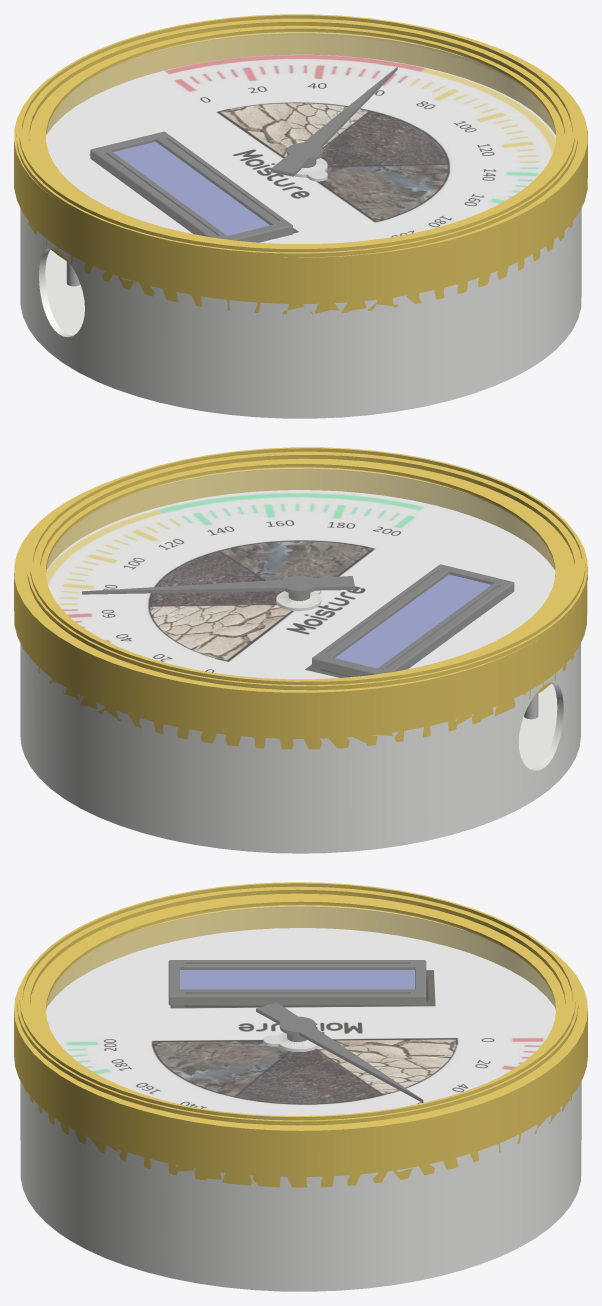
The model's file is digitalGauge.fbx.
3 views of the same model, one above another, from view 1: azimuth 30°, elevation 25°; view 2: azimuth 150°, elevation 25°; view 3: azimuth 270°, elevation 25° (orthographic).
Parts seen in each view (by area): view 1: Body1.008, Body1.005, Body1.006, Body1.002, Body2.002, Body1.007, Body1.004, Body2.003, Body2.005, Body3.001, Body1.003, Body1.001 (+1 smaller); view 2: Body1.005, Body1.008, Body1.006, Body1.002, Body2.002, Body1.004, Body1.007, Body2.003, Body2.005, Body3.001, Body1.003, Body1.001 (+2 smaller); view 3: Body1.005, Body1.008, Body1.002, Body1.006, Body2.002, Body1.004, Body1.007, Body2.005, Body2.003, Body3.001, Body1.003, Body1.001 (+1 smaller).
Part boxes in pixels (x1,y1,x2,y2): Body1.008: (46, 32, 555, 243); Body1.005: (46, 34, 555, 243); Body1.006: (46, 54, 555, 243); Body1.002: (20, 208, 581, 418); Body2.002: (14, 22, 587, 303); Body1.007: (16, 18, 577, 259); Body1.004: (46, 32, 555, 134); Body2.003: (19, 14, 574, 252); Body2.005: (90, 131, 292, 242); Body3.001: (113, 142, 269, 235); Body1.003: (24, 53, 577, 314); Body1.001: (270, 67, 397, 176); Body1.005: (46, 469, 554, 678); Body1.008: (46, 470, 554, 678); Body1.006: (46, 490, 555, 679); Body1.002: (20, 643, 580, 853); Body2.002: (14, 458, 587, 738); Body1.004: (46, 467, 555, 569); Body1.007: (27, 451, 587, 690); Body2.003: (30, 447, 585, 685); Body2.005: (312, 564, 514, 676); Body3.001: (335, 574, 490, 668); Body1.003: (23, 488, 577, 749); Body1.001: (82, 575, 354, 600); Body1.005: (46, 907, 555, 1115); Body1.008: (46, 908, 555, 1115); Body1.002: (20, 1081, 581, 1291); Body1.006: (46, 928, 555, 1115); Body2.002: (14, 893, 587, 1176); Body1.004: (46, 905, 555, 1007); Body1.007: (17, 886, 578, 1125); Body2.005: (168, 960, 426, 1005); Body2.003: (19, 882, 575, 1120); Body3.001: (180, 970, 414, 989); Body1.003: (24, 926, 577, 1187); Body1.001: (256, 1002, 423, 1102).
Bounding box in the file's own units: 15.75 × 5.17 × 15.75.
